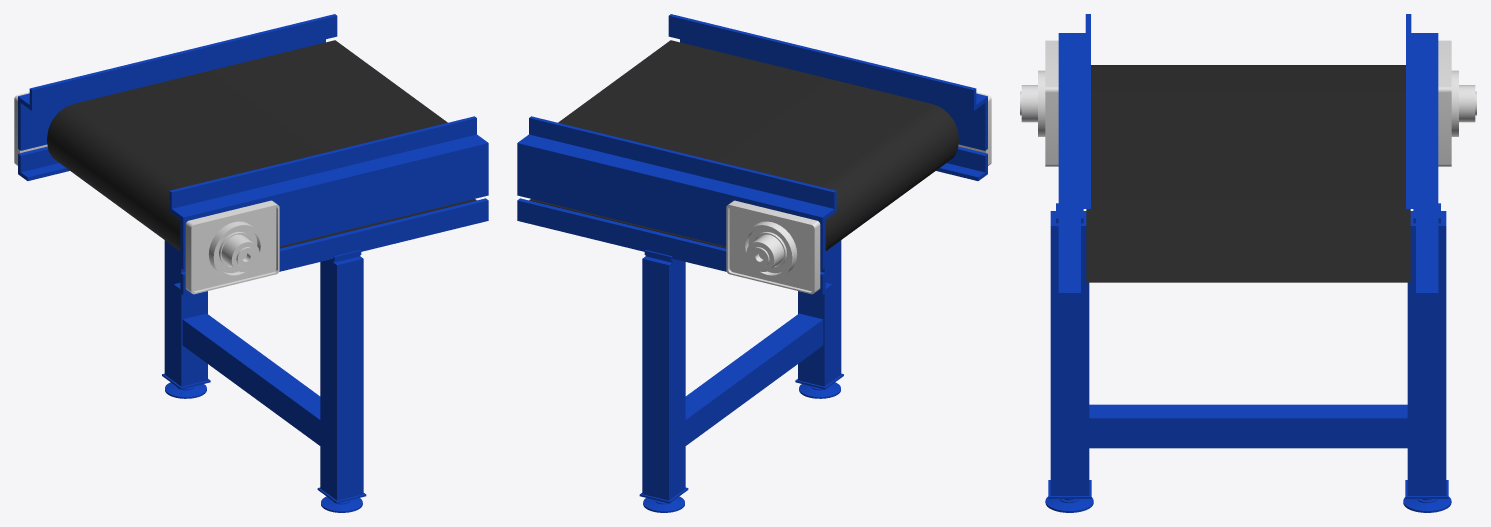
File: Assembly_Band_End.fbx
The picture shows the model from 3 angles, left to right: view 1: azimuth 30°, elevation 25°; view 2: azimuth 150°, elevation 25°; view 3: azimuth 270°, elevation 25°; orthographic projection. The views are drawn at different scales.
Visible parts, largest first — view 1: Cylinder; view 2: Cylinder; view 3: Cylinder.
Part boxes in pixels (x1,y1,x2,y2): Cylinder: (14,14,488,512); Cylinder: (517,14,991,512); Cylinder: (1020,14,1476,512).
Size of the model in its own units: 99.69 by 108 by 113.
